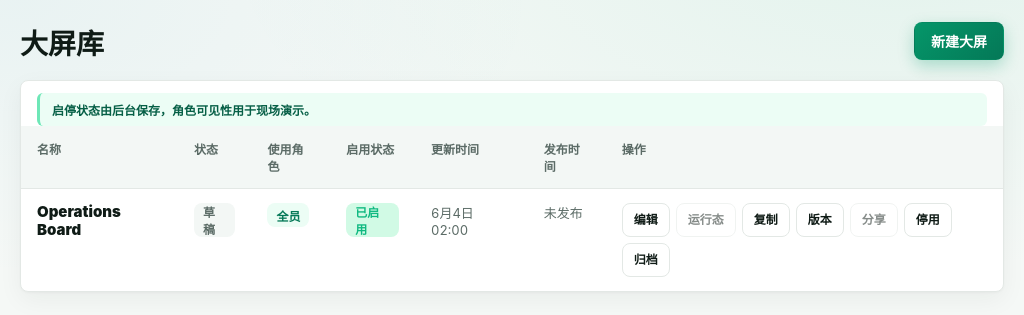
Test: DashboardList › archives after confirmation and removes the row from the list
Click the button "归档". click: (646, 260)
box: [622,243,670,277]
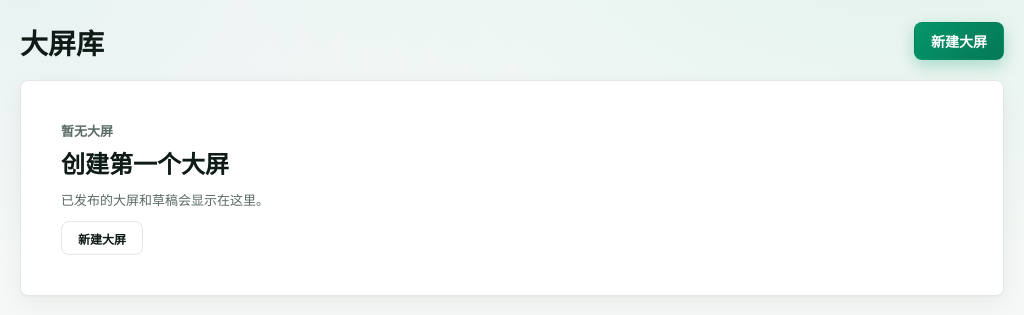
Now the text "Operations Board" is gone
